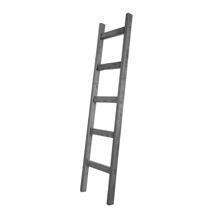Ladder: (85, 9, 156, 194)
